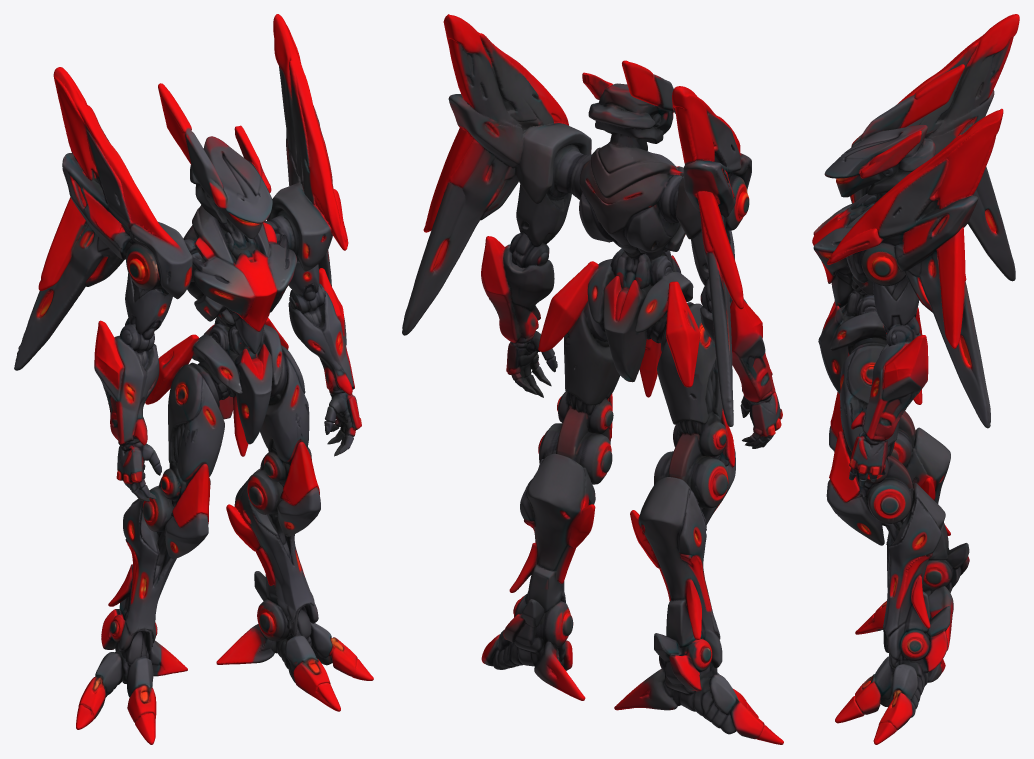
File: kestrel.glb
3 renders of one model, left to right at view 1: azimuth 30°, elevation 25°; view 2: azimuth 150°, elevation 25°; view 3: azimuth 270°, elevation 25°, orthographic. The views are drawn at different scales.
Visible parts, largest first — view 1: tripo_node_c4047506-28d8-4e54-a8f1-b78239543f2a; view 2: tripo_node_c4047506-28d8-4e54-a8f1-b78239543f2a; view 3: tripo_node_c4047506-28d8-4e54-a8f1-b78239543f2a.
Part boxes in pixels (box(x1,y1,x2,y2)): tripo_node_c4047506-28d8-4e54-a8f1-b78239543f2a: box(14, 14, 373, 744); tripo_node_c4047506-28d8-4e54-a8f1-b78239543f2a: box(402, 14, 783, 744); tripo_node_c4047506-28d8-4e54-a8f1-b78239543f2a: box(812, 14, 1019, 744).
Bounding box in the file's own units: 0.4978 × 0.9829 × 0.2959.
1 material, 1 textured.
